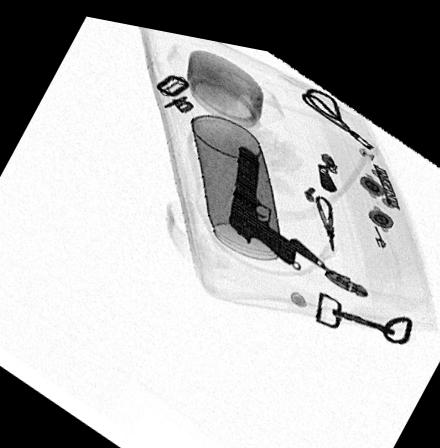Gun: (223, 133, 296, 252)
